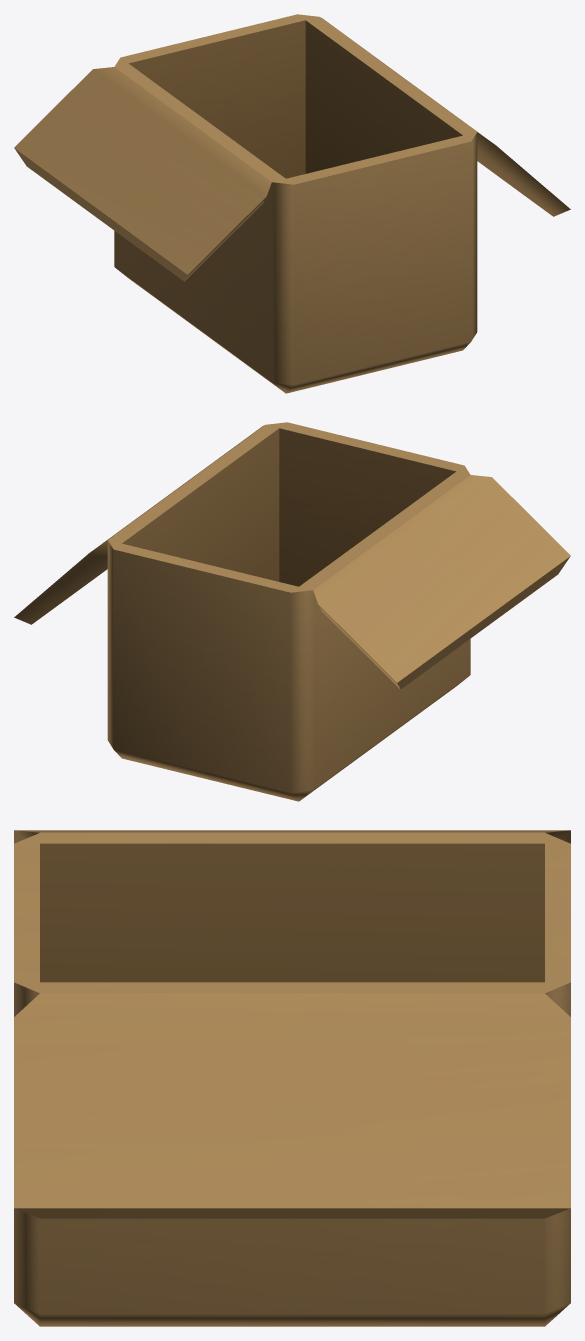
The model's file is box_cardboard_rectangle_open_flaps.fbx.
3 views of the same model, one above another, from view 1: azimuth 30°, elevation 25°; view 2: azimuth 150°, elevation 25°; view 3: azimuth 270°, elevation 25° (orthographic). The views are drawn at different scales.
Parts seen in each view (by area): view 1: box_cardboard_rectangle_open_flaps; view 2: box_cardboard_rectangle_open_flaps; view 3: box_cardboard_rectangle_open_flaps.
Boxes of the visible parts, x1,y1,x2,y2 form: box_cardboard_rectangle_open_flaps: [14, 14, 570, 393]; box_cardboard_rectangle_open_flaps: [14, 422, 570, 801]; box_cardboard_rectangle_open_flaps: [14, 830, 570, 1326].
Bounding box in the file's own units: 100 × 53.69 × 78.69.
